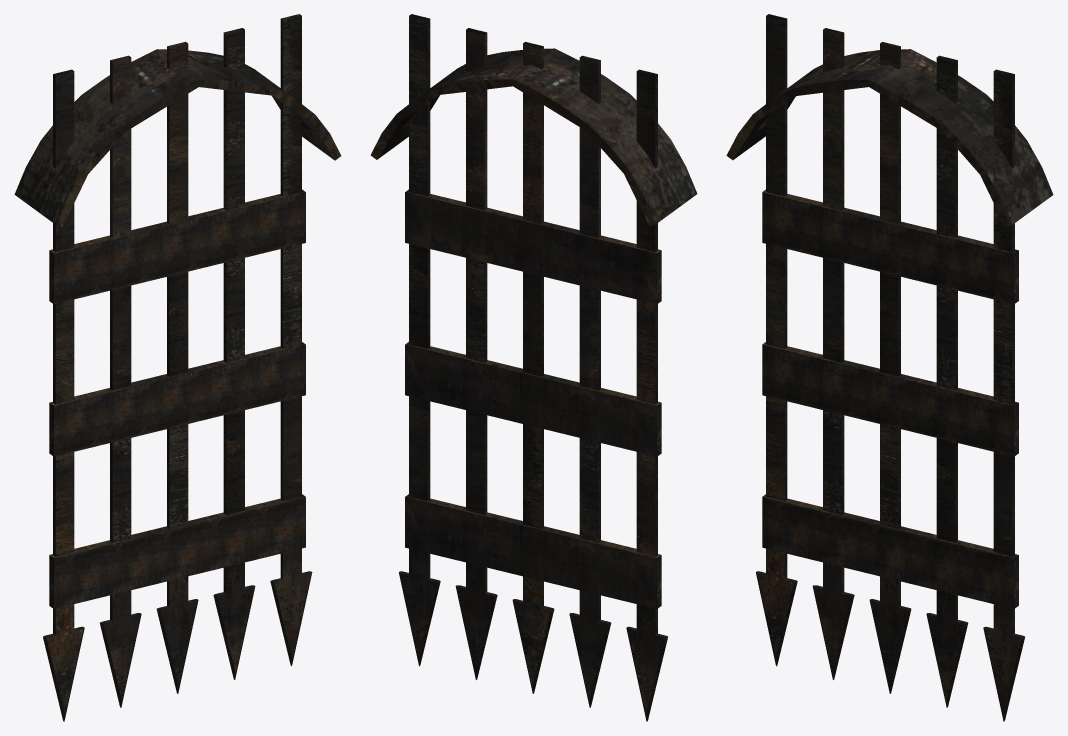
Rendered from cell-grate.lod0.glb.
3 views of the same model, side by side, from view 1: azimuth 30°, elevation 25°; view 2: azimuth 150°, elevation 25°; view 3: azimuth 330°, elevation 25° (orthographic).
Visible parts, largest first — view 1: Portcullis_3_standardSurface5_0; view 2: Portcullis_3_standardSurface5_0; view 3: Portcullis_3_standardSurface5_0.
Boxes of the visible parts, box(x1,y1,x2,y2) form: Portcullis_3_standardSurface5_0: box(14, 14, 341, 721); Portcullis_3_standardSurface5_0: box(370, 14, 697, 721); Portcullis_3_standardSurface5_0: box(726, 14, 1053, 721).
Size of the model in its own units: 1.01 by 2.2 by 0.2573.
Materials: 1 (1 with a texture image).
